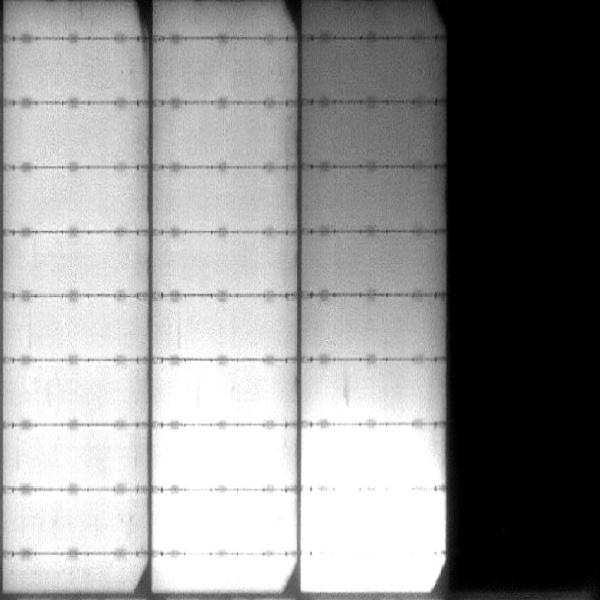hot_spot: (304, 428, 438, 485), (306, 497, 442, 550), (157, 498, 294, 549), (157, 432, 281, 484), (306, 554, 428, 590), (157, 558, 283, 586)
no_electricity: (447, 1, 597, 597)
